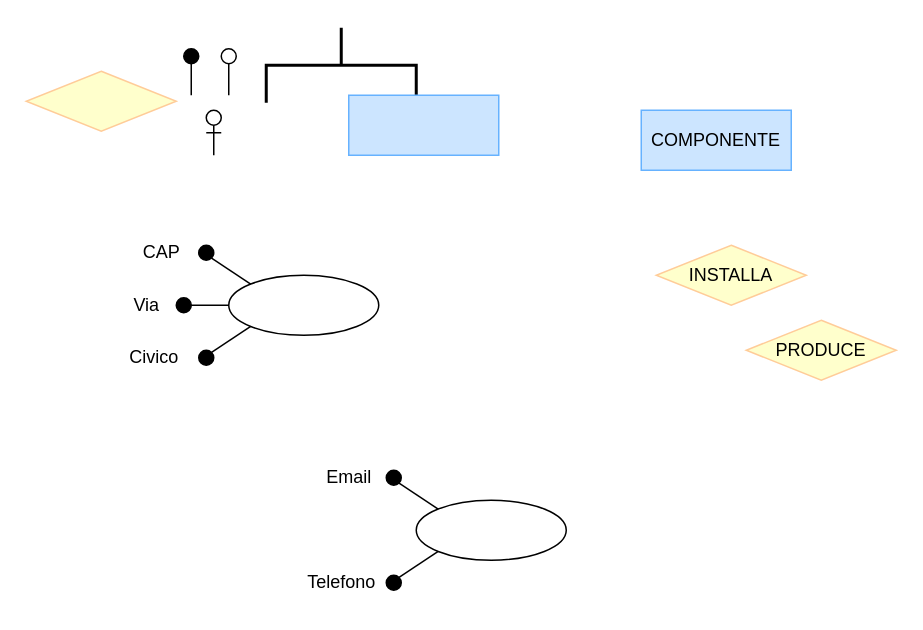
This 923x630 diagram has some shape labels left out. Each missing label, with the centre of its shape:
"CONTATTI" belongs at point (490, 529).
"INDIRIZZO" belongs at point (303, 304).
